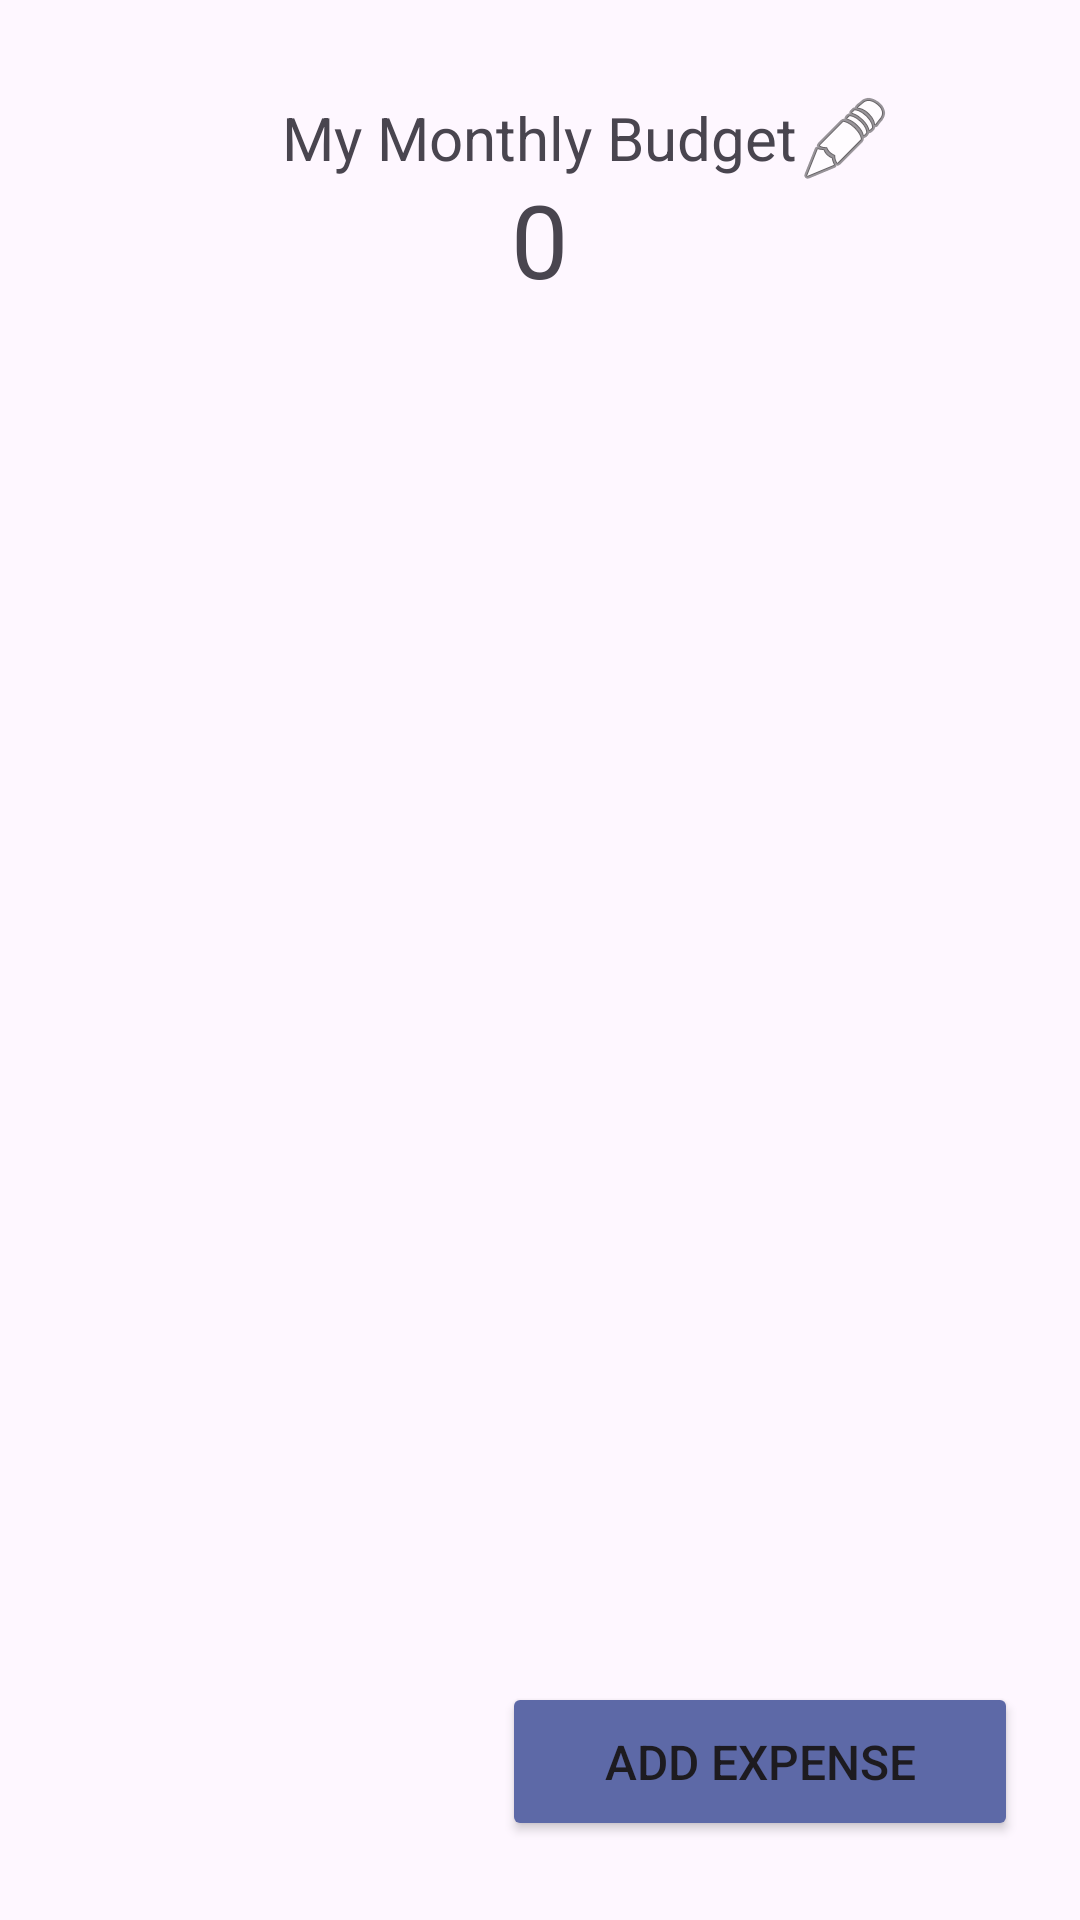

Icons on this 1080×1920 Android screen, each with the point to tap as (x=x, y=y):
edit: (x=831, y=138)
